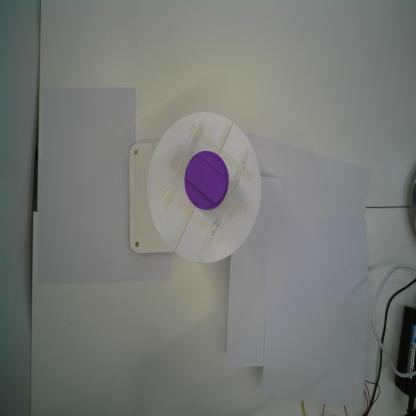Canned Food: (184, 150, 230, 212)
